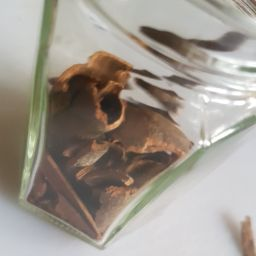Cinemon stick: (18, 21, 255, 256), (50, 41, 181, 236)
